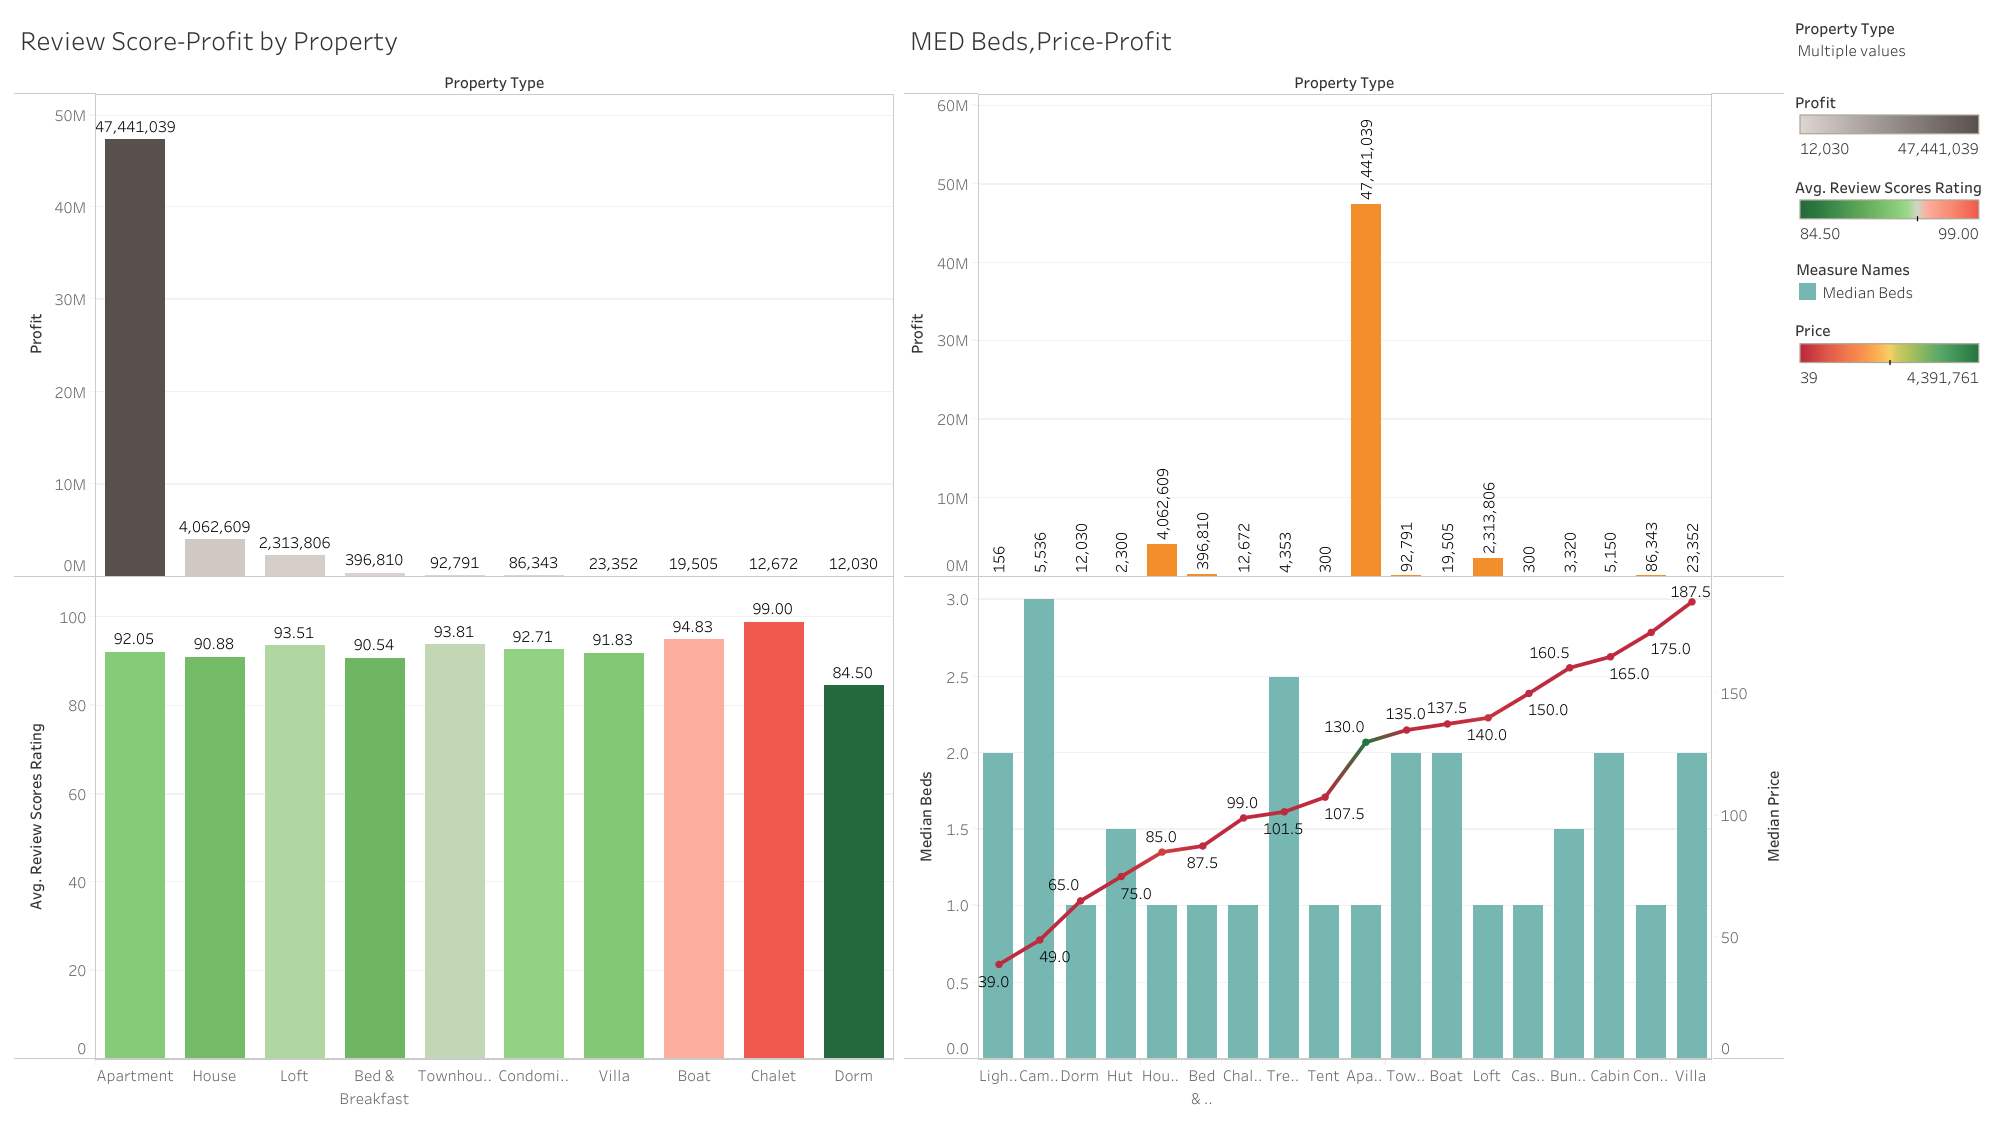

What the dashboard file says about the page in this screenshot:
{"tool":"tableau","page":{"name":"Profit","canvas":[1600,900],"ordinal":3},"visuals":[{"type":"worksheet","title":"Review Score-Profit by Property","mark":"Automatic","rows":["Calculation_667095754605002752","Review Scores Rating"],"cols":["Property Type"],"box":[8,8,712,884]},{"type":"worksheet","title":"MED Beds,Price-Profit","mark":"Bar","rows":["Calculation_667095754605002752","Beds","Price"],"cols":["Property Type"],"box":[720,8,712,884]},{"type":"filter","title":"Review Score-Profit by Property","param":"[federated.0j0w5ul0jr4dh91d4lxyd0nrqbqj].[none:Property Type:nk]","box":[1432,8,160,132]},{"type":"legend","title":"Review Score-Profit by Property","param":"[federated.0j0w5ul0jr4dh91d4lxyd0nrqbqj].[sum:Calculation_667095754605002752:qk]","box":[1432,140,160,73]},{"type":"legend","title":"Review Score-Profit by Property","param":"[federated.0j0w5ul0jr4dh91d4lxyd0nrqbqj].[avg:Review Scores Rating:qk]","box":[1432,213,160,73]},{"type":"legend","title":"MED Beds,Price-Profit","param":"[federated.0j0w5ul0jr4dh91d4lxyd0nrqbqj].[:Measure Names]","box":[1432,286,160,51]},{"type":"legend","title":"MED Beds,Price-Profit","param":"[federated.0j0w5ul0jr4dh91d4lxyd0nrqbqj].[sum:Price:qk]","box":[1432,337,160,73]}]}

Visuals, with their boxes in screenshot pixels (x1, y1, x2, y2), scaled from the page's 1600x900 canvas onto the 1999x1124 screenshot:
"Review Score-Profit by Property" worksheet: [left=10, top=10, right=900, bottom=1114]
"MED Beds,Price-Profit" worksheet (Bar marks): [left=900, top=10, right=1789, bottom=1114]
"Review Score-Profit by Property" filter: [left=1789, top=10, right=1989, bottom=175]
"Review Score-Profit by Property" legend: [left=1789, top=175, right=1989, bottom=266]
"Review Score-Profit by Property" legend: [left=1789, top=266, right=1989, bottom=357]
"MED Beds,Price-Profit" legend: [left=1789, top=357, right=1989, bottom=421]
"MED Beds,Price-Profit" legend: [left=1789, top=421, right=1989, bottom=512]
